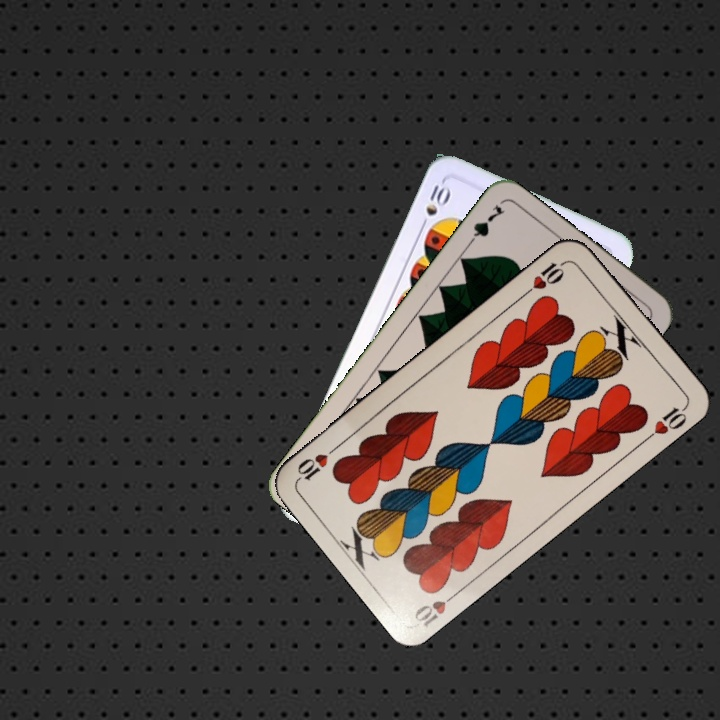G7: (462, 200, 508, 251)
H10: (410, 586, 464, 630), (520, 256, 571, 299)
S10: (415, 180, 453, 233)
